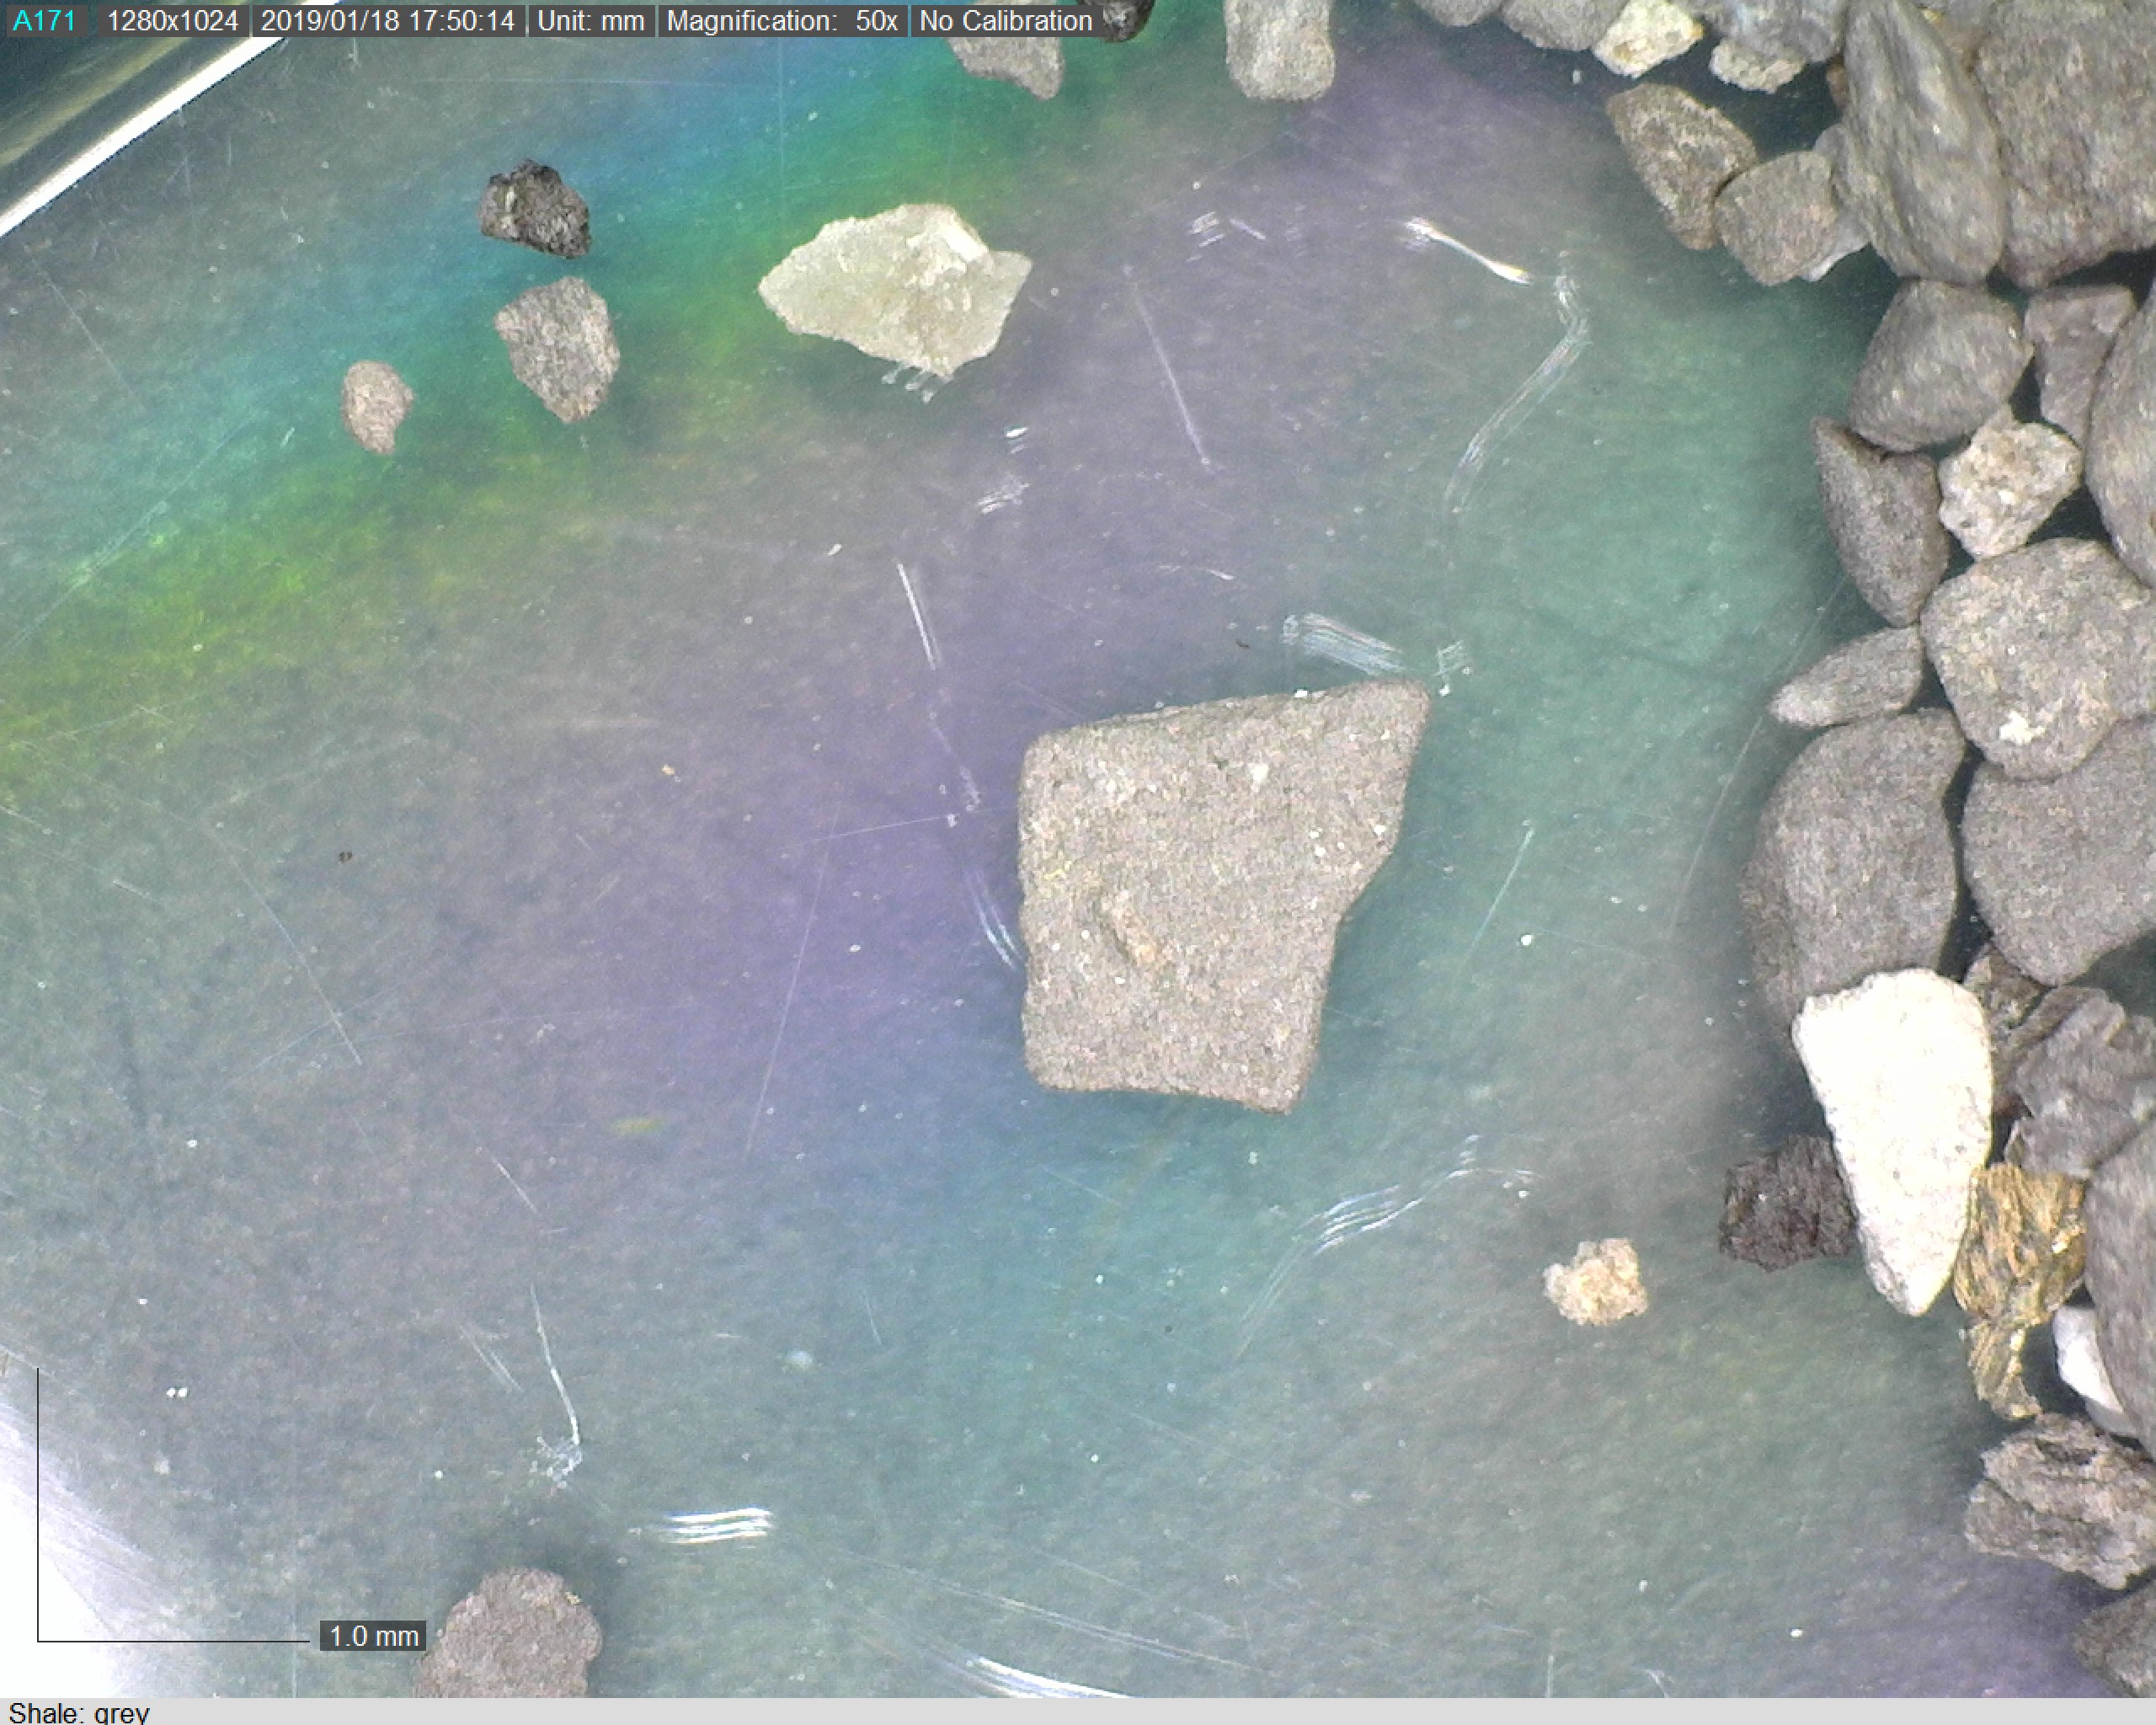Shale: (1003, 674, 1438, 1121)
